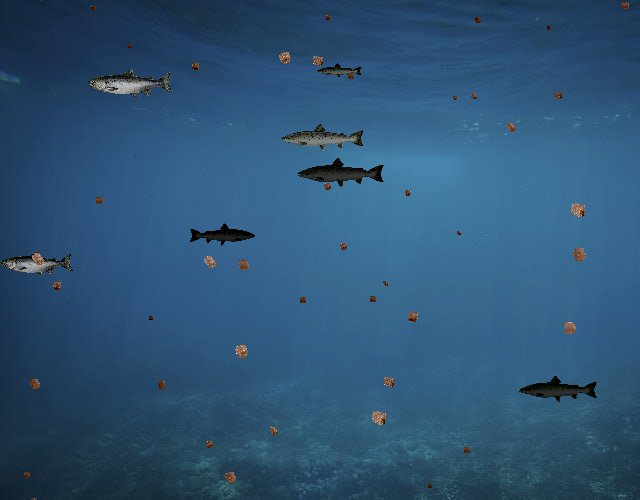Fish: (296, 157, 386, 189), (280, 122, 366, 153), (88, 68, 174, 99), (519, 374, 600, 404), (2, 251, 75, 277), (189, 223, 257, 247), (317, 63, 364, 80)
Pellet: (306, 49, 329, 72), (501, 117, 521, 137), (187, 59, 204, 76), (366, 292, 380, 306), (87, 2, 100, 15), (450, 92, 460, 103)
